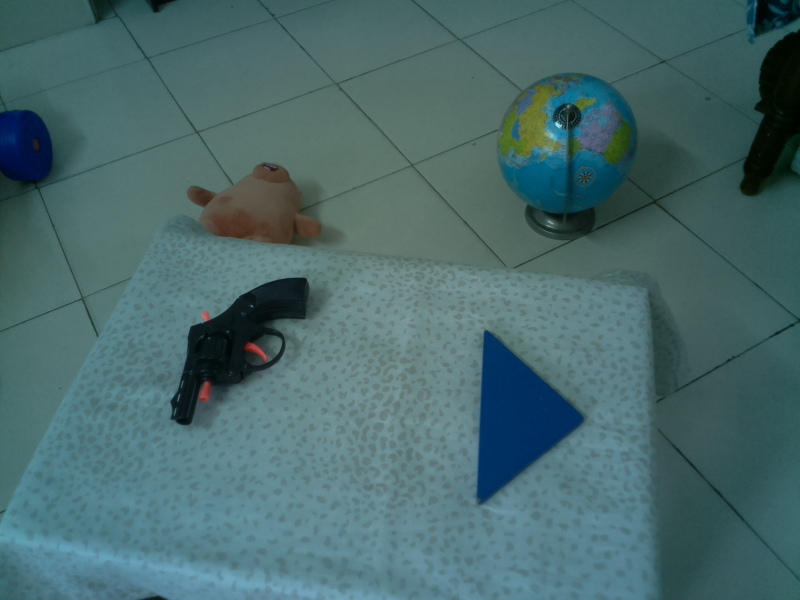Gun: (165, 274, 313, 429)
Triangle: (473, 323, 588, 512)
